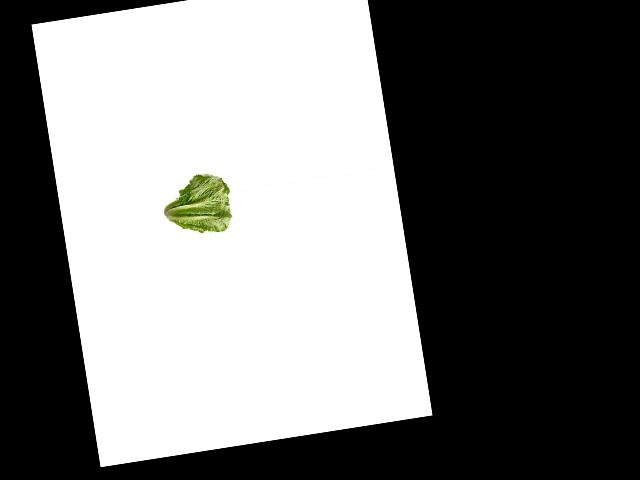lettuce: (155, 167, 236, 238)
